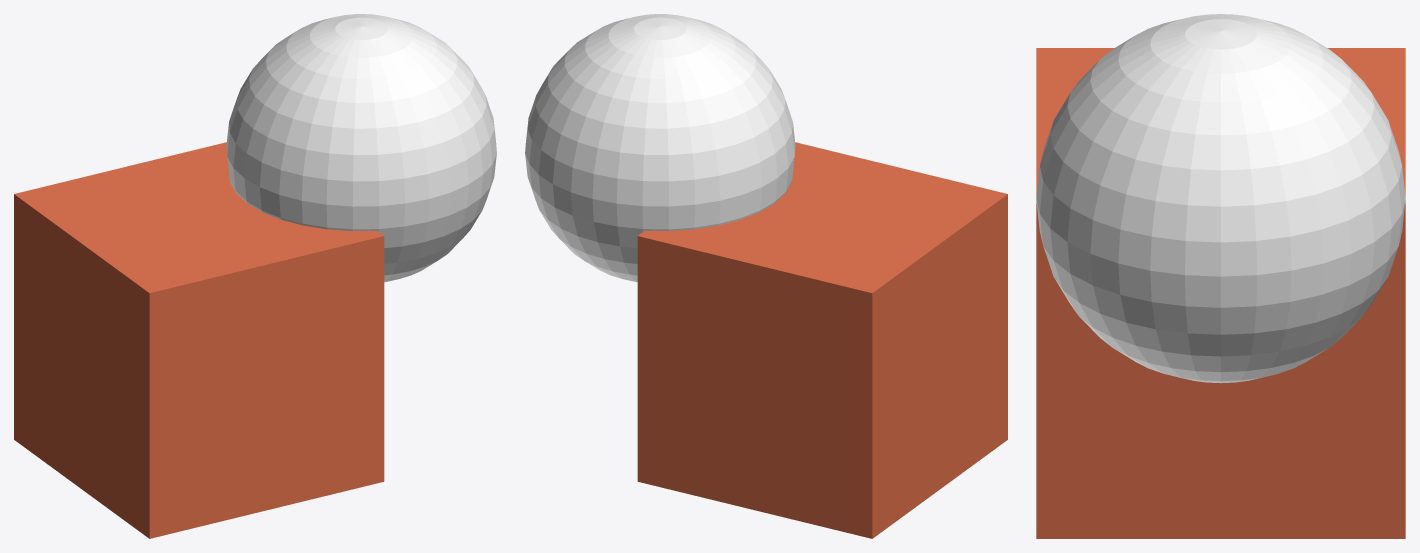
3 views of the same model, side by side, from view 1: azimuth 30°, elevation 25°; view 2: azimuth 150°, elevation 25°; view 3: azimuth 270°, elevation 25° (orthographic). The views are drawn at different scales.
Visible parts, largest first — view 1: Cube, Sphere; view 2: Cube, Sphere; view 3: Sphere, Cube.
Part boxes in pixels (x1=…): Cube: x1=14, y1=142, x2=384, y2=538; Sphere: x1=226, y1=14, x2=496, y2=282; Cube: x1=637, y1=142, x2=1007, y2=538; Sphere: x1=525, y1=14, x2=795, y2=282; Sphere: x1=1036, y1=14, x2=1405, y2=383; Cube: x1=1036, y1=48, x2=1405, y2=538.
Bounding box in the file's own units: 3.38 × 3.21 × 2.
